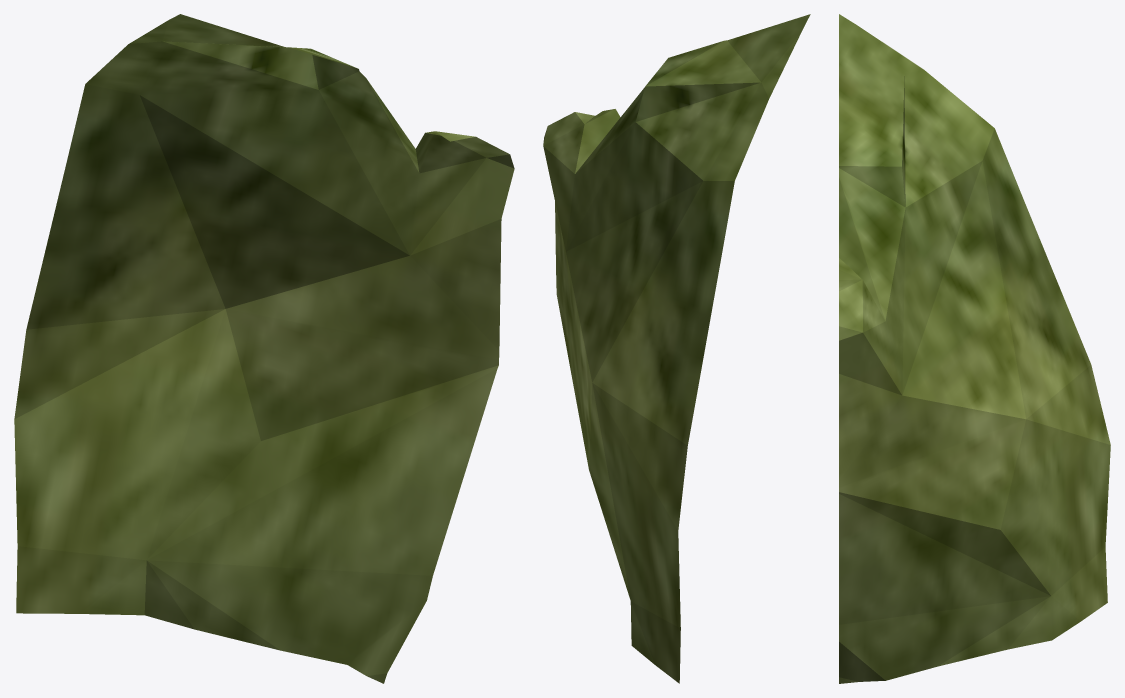
The picture shows the model from 3 angles, left to right: view 1: azimuth 30°, elevation 25°; view 2: azimuth 150°, elevation 25°; view 3: azimuth 270°, elevation 25°; orthographic projection. The views are drawn at different scales.
Size of the model in its own units: 0.561 by 1.15 by 0.4827.
1 material, 1 textured.
